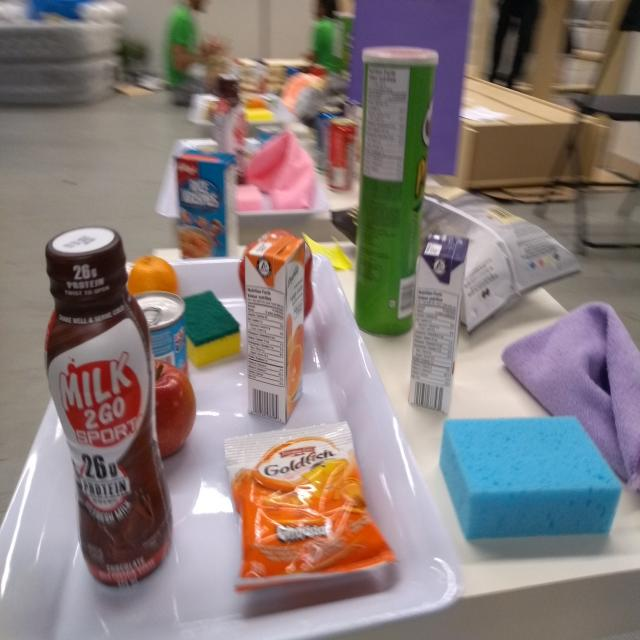chocolate_drink: (35, 223, 177, 600)
crackers: (222, 416, 400, 606)
grape_juice: (405, 228, 472, 417)
orange_juice: (241, 225, 309, 428)
pringles: (348, 40, 442, 342)
scrubby: (180, 288, 244, 372)
sponge_opl: (437, 412, 622, 544)
